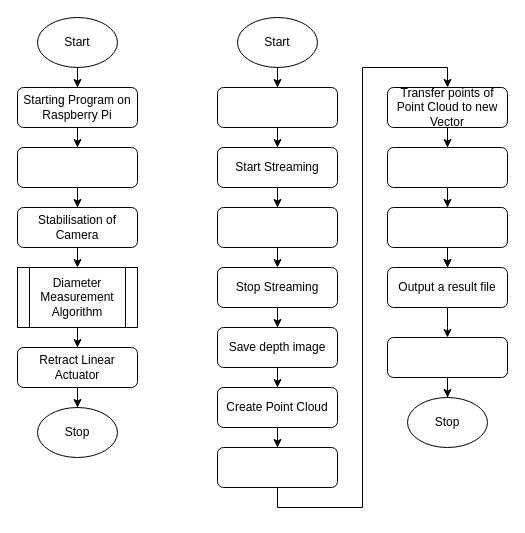
Image size: 525x533. Some labels were removed from this diagram. The shapes that lost their labels are listed below. From the top down, each one's centre as x and y in pixels, then its label:
the point at 277,107: Configure Camera Settings
the point at 77,167: Extend Linear Actuator
the point at 447,167: Set RANSAC parameters
the point at 277,227: Store Frameset
the point at 447,227: Apply RANSAC detector
the point at 447,357: Close C++ Subprocess
the point at 277,467: Open C++ Subprocess
